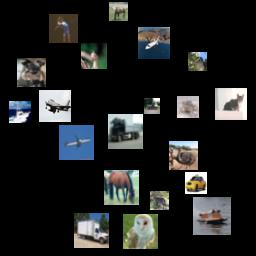airplane: (59, 125, 94, 160), (39, 90, 71, 122), (138, 27, 170, 59)
automobile: (185, 172, 207, 194)
bird: (123, 214, 158, 249), (169, 141, 198, 170), (49, 14, 78, 43), (81, 43, 107, 69), (188, 52, 207, 71)
cat: (215, 88, 247, 120)
deer: (150, 191, 169, 210), (109, 2, 128, 21)
dog: (17, 58, 46, 87)
frog: (177, 96, 199, 118)
ship: (193, 197, 231, 235), (9, 101, 31, 123)
truck: (74, 213, 109, 248), (108, 114, 143, 149), (144, 98, 160, 114)
